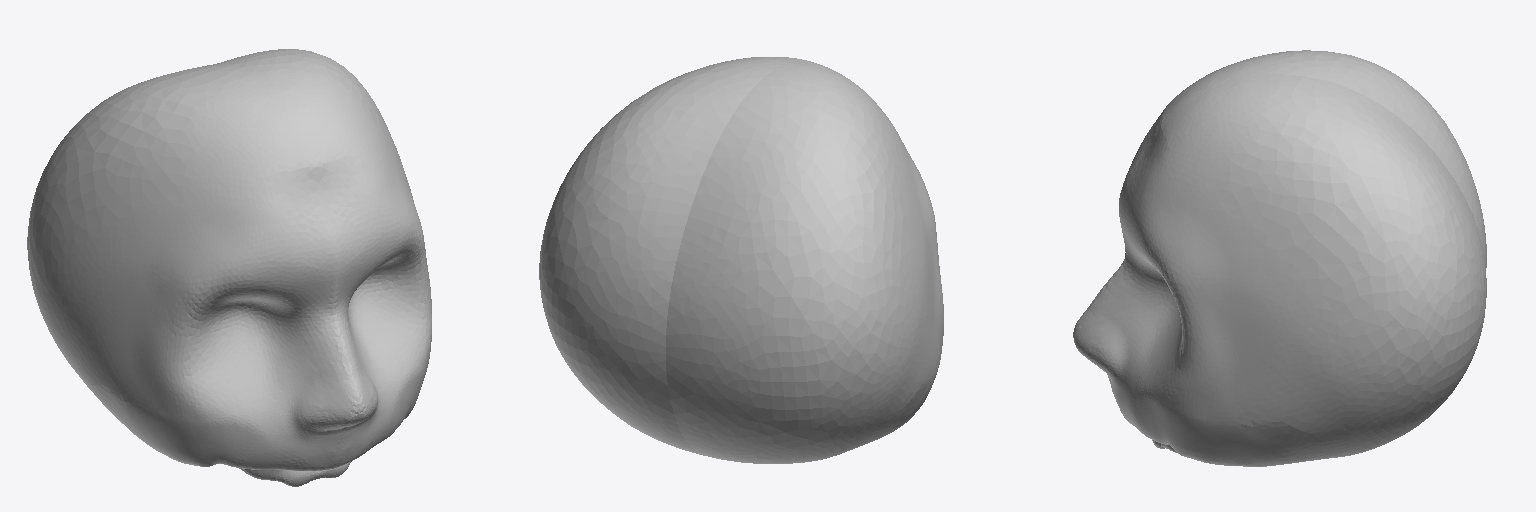
The model's file is head_skull.obj.
3 renders of one model, left to right at view 1: azimuth 30°, elevation 25°; view 2: azimuth 150°, elevation 25°; view 3: azimuth 270°, elevation 25°, orthographic.
Size of the model in its own units: 2.15 by 2.19 by 2.26.